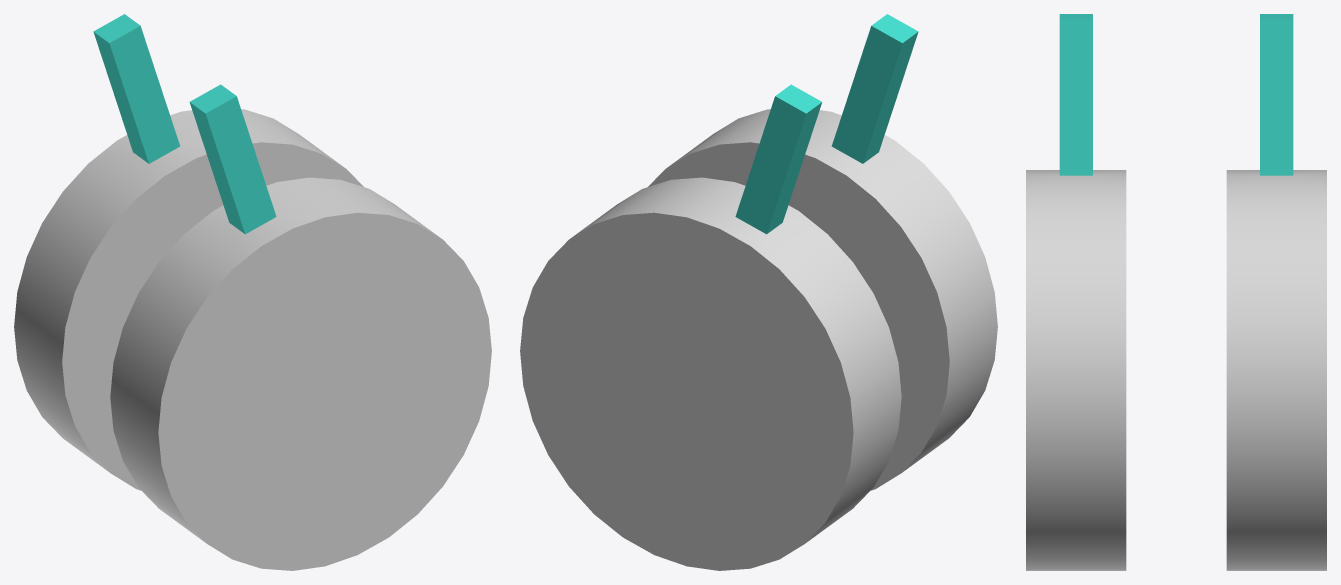
The model's file is SM_LeverCylinder.fbx.
3 views of the same model, side by side, from view 1: azimuth 30°, elevation 25°; view 2: azimuth 150°, elevation 25°; view 3: azimuth 270°, elevation 25° (orthographic). The views are drawn at different scales.
Parts seen in each view (by area): view 1: SM_LeverCylinder; view 2: SM_LeverCylinder; view 3: SM_LeverCylinder.
Part boxes in pixels (left/top/right/bottom): SM_LeverCylinder: left=14, top=14, right=491, bottom=570; SM_LeverCylinder: left=520, top=14, right=997, bottom=570; SM_LeverCylinder: left=1026, top=14, right=1326, bottom=570.
Bounding box in the file's own units: 80.06 × 109 × 60.
